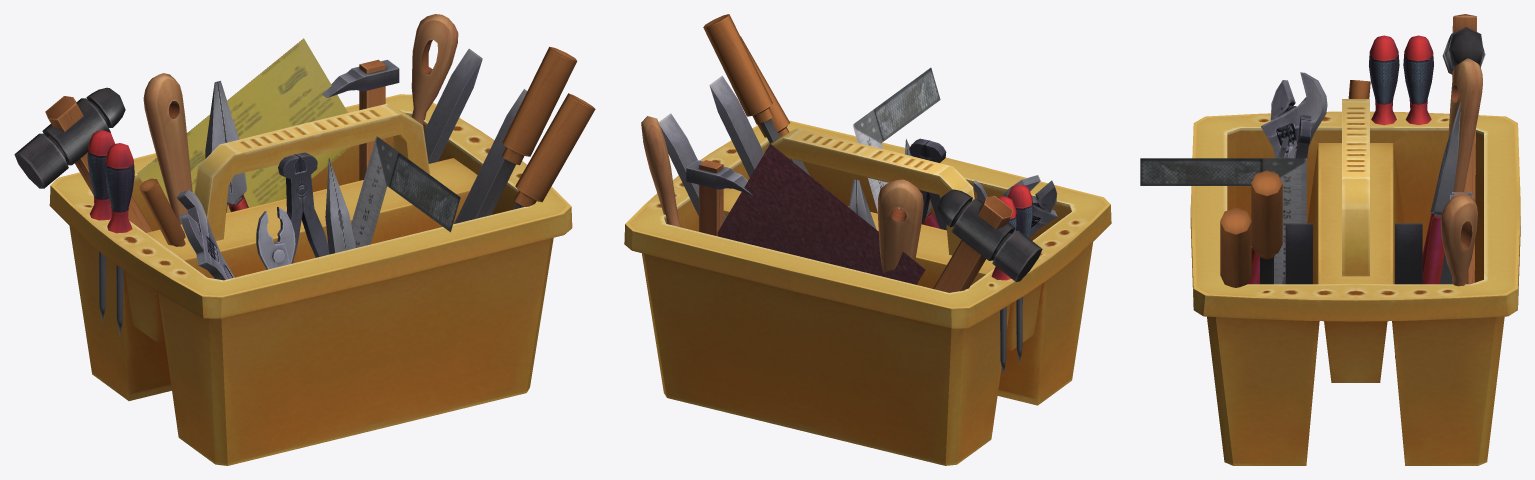
Rendered from ShenFuXiuXiShi_01_gongjuxiang_01.FBX.
The picture shows the model from 3 angles, left to right: view 1: azimuth 30°, elevation 25°; view 2: azimuth 150°, elevation 25°; view 3: azimuth 270°, elevation 25°; orthographic projection. The views are drawn at different scales.
Parts seen in each view (by area): view 1: ShenFuXiuXiShi_01_gongjuxiang_01; view 2: ShenFuXiuXiShi_01_gongjuxiang_01; view 3: ShenFuXiuXiShi_01_gongjuxiang_01.
Part boxes in pixels (box(x1,y1,x2,y2)): ShenFuXiuXiShi_01_gongjuxiang_01: box(14, 14, 595, 465); ShenFuXiuXiShi_01_gongjuxiang_01: box(624, 14, 1111, 465); ShenFuXiuXiShi_01_gongjuxiang_01: box(1140, 14, 1520, 465).
Bounding box in the file's own units: 365 × 241 × 264.
